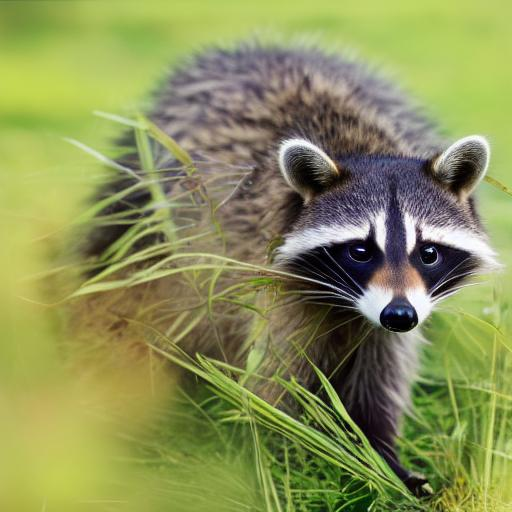raccoon: (56, 21, 503, 436)
